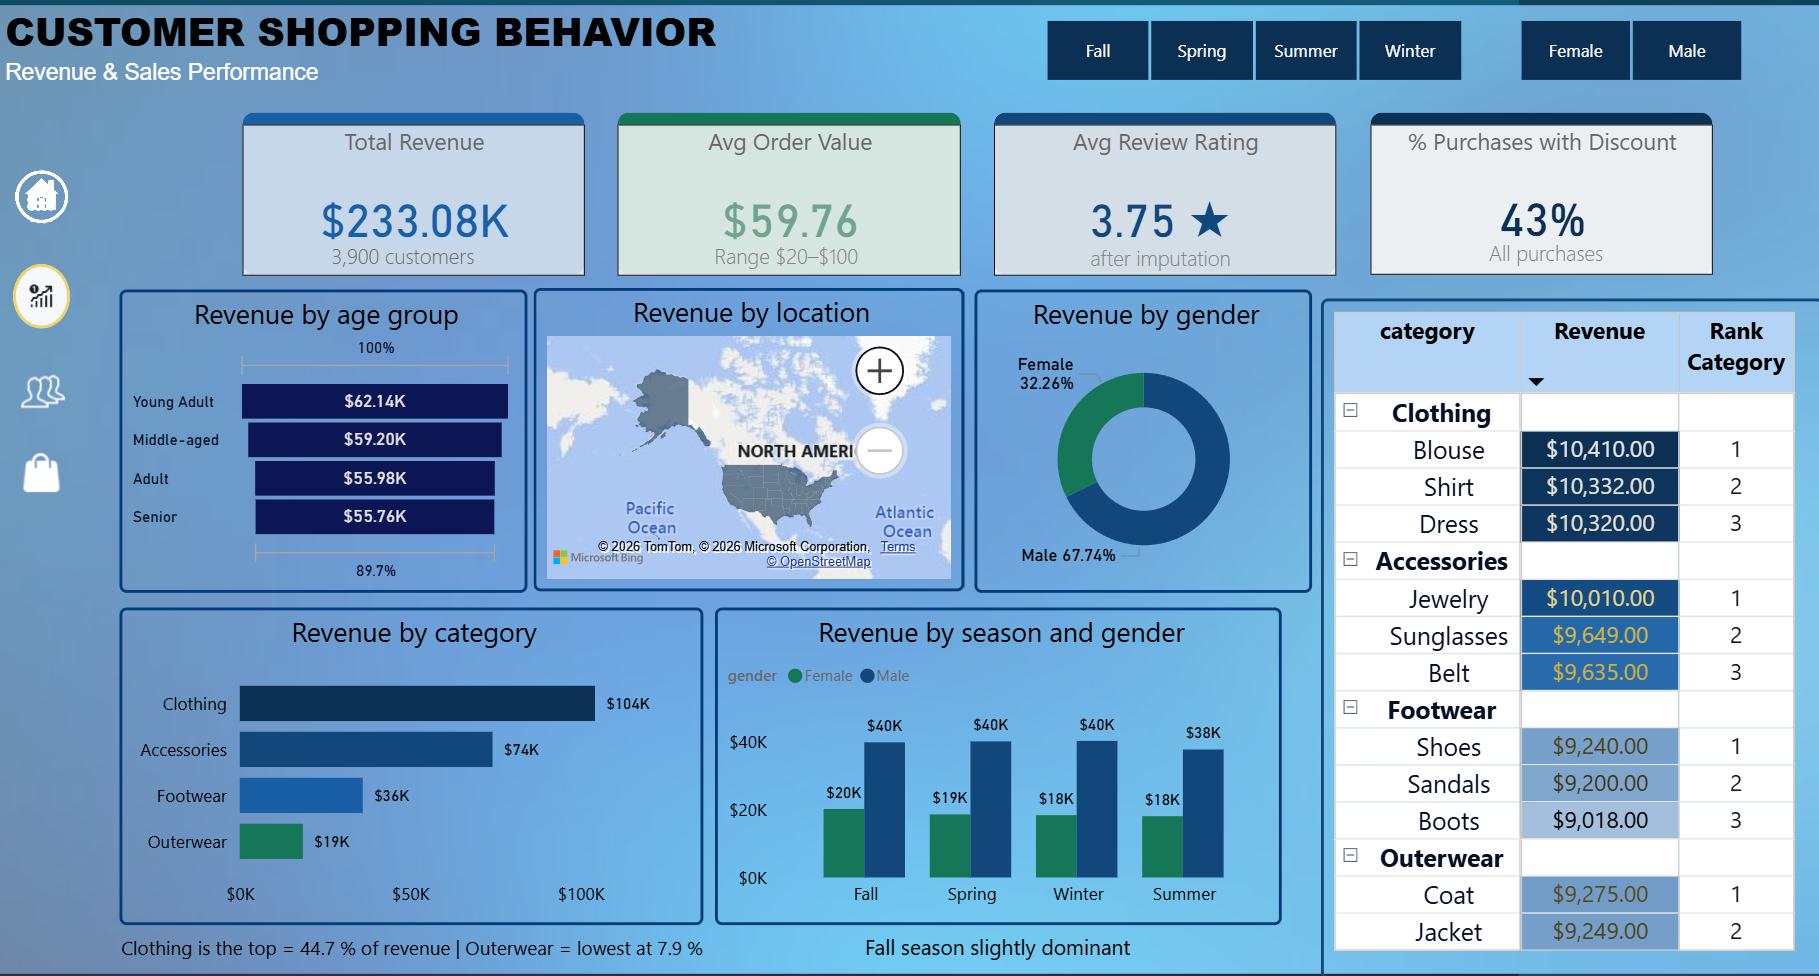

What the dashboard file says about the page in this screenshot:
{"tool":"powerbi","page":{"name":"Revenue & Sales Performance","canvas":[1280,720],"ordinal":1},"visuals":[{"type":"shape","box":[83.1,665.7,414.3,37.9],"z":0},{"type":"shape","box":[575.2,658.3,251.3,51.5],"z":1000},{"type":"clusteredColumnChart","fields":{"Category":["customer.season"],"Y":["A_measures.Revenue"],"Series":["customer.gender"]},"box":[502.7,446.9,397.5,222.9],"z":2000},{"type":"filledMap","fields":{"Category":["customer.location"]},"box":[375.4,222.9,301.8,212.4],"z":3000},{"type":"pivotTable","fields":{"Rows":["customer.category","customer.item_purchased"],"Values":["A_measures.Revenue","A_measures.Rank_In_Category"]},"box":[927.5,230.3,352.3,477.4],"z":4000},{"type":"donutChart","fields":{"Category":["customer.gender"],"Y":["A_measures.Revenue"]},"box":[684.6,224,236.6,212.4],"z":5000},{"type":"funnel","title":"Revenue by age group","fields":{"Category":["customer.age_group"],"Y":["A_measures.Revenue"]},"box":[85.2,224,286,212.4],"z":6000},{"type":"clusteredBarChart","fields":{"Y":["A_measures.Revenue"],"Category":["customer.category"]},"box":[85.2,446.9,409.1,222.9],"z":7000},{"type":"textbox","box":[0,18.9,521.6,74.7],"z":8000},{"type":"shape","box":[171.4,100,239.8,113.6],"z":9000},{"type":"card","title":"Total Revenue","fields":{"Values":["A_measures.Revenue"]},"box":[171.4,108.4,239.8,106.2],"z":10000},{"type":"textbox","box":[209.3,185.1,149.3,41],"z":11000},{"type":"shape","box":[434.3,100,240.8,113.6],"z":12000},{"type":"card","title":"Avg Order Value","fields":{"Values":["A_measures.Averge_purchase_amount"]},"box":[434.3,108.4,240.8,106.2],"z":13000},{"type":"shape","box":[698.3,100,239.8,113.6],"z":14000},{"type":"card","title":"Avg Review Rating","fields":{"Values":["A_measures.Average Review Rating"]},"box":[698.3,108.4,239.8,106.2],"z":15000},{"type":"shape","box":[962.2,100,239.8,113.6],"z":16000},{"type":"card","title":"% Purchases with Discount","fields":{"Values":["A_measures.% Purchases with Discount"]},"box":[962.2,108.4,239.8,105.2],"z":17000},{"type":"textbox","box":[475.3,185.1,154.6,41],"z":18000},{"type":"textbox","box":[738.2,186.2,153.5,40],"z":19000},{"type":"textbox","box":[1008.5,183,153.5,40],"z":20000},{"type":"slicer","fields":{"Values":["customer.season"]},"box":[709.8,28.4,339.7,55.7],"z":21000},{"type":"slicer","fields":{"Values":["customer.gender"]},"box":[1042.2,28.4,204,55.7],"z":22000},{"type":"image","box":[0,134.6,61,48.4],"z":23000},{"type":"actionButton","box":[10.5,206.1,40,45.2],"z":24000},{"type":"actionButton","box":[2.1,264,58.9,62],"z":25000},{"type":"actionButton","box":[10.5,333.4,50.5,40],"z":26000}]}

Visuals, with their boxes on the page's 1280x720 design canvas (x1, y1, x2, y2). These are canvas units, not pixel positions in the 1819x976 screenshot, which may show the page scaled, cropped or inside an application window:
shape: [83, 666, 497, 704]
shape: [575, 658, 826, 710]
clusteredColumnChart - customer.season x A_measures.Revenue: [503, 447, 900, 670]
filledMap - customer.location: [375, 223, 677, 435]
pivotTable - customer.category x customer.item_purchased: [928, 230, 1280, 708]
donutChart - customer.gender x A_measures.Revenue: [685, 224, 921, 436]
"Revenue by age group" funnel: [85, 224, 371, 436]
clusteredBarChart - A_measures.Revenue x customer.category: [85, 447, 494, 670]
textbox: [0, 19, 522, 94]
shape: [171, 100, 411, 214]
"Total Revenue" card: [171, 108, 411, 215]
textbox: [209, 185, 359, 226]
shape: [434, 100, 675, 214]
"Avg Order Value" card: [434, 108, 675, 215]
shape: [698, 100, 938, 214]
"Avg Review Rating" card: [698, 108, 938, 215]
shape: [962, 100, 1202, 214]
"% Purchases with Discount" card: [962, 108, 1202, 214]
textbox: [475, 185, 630, 226]
textbox: [738, 186, 892, 226]
textbox: [1008, 183, 1162, 223]
slicer - customer.season: [710, 28, 1050, 84]
slicer - customer.gender: [1042, 28, 1246, 84]
image: [0, 135, 61, 183]
actionButton: [10, 206, 50, 251]
actionButton: [2, 264, 61, 326]
actionButton: [10, 333, 61, 373]
